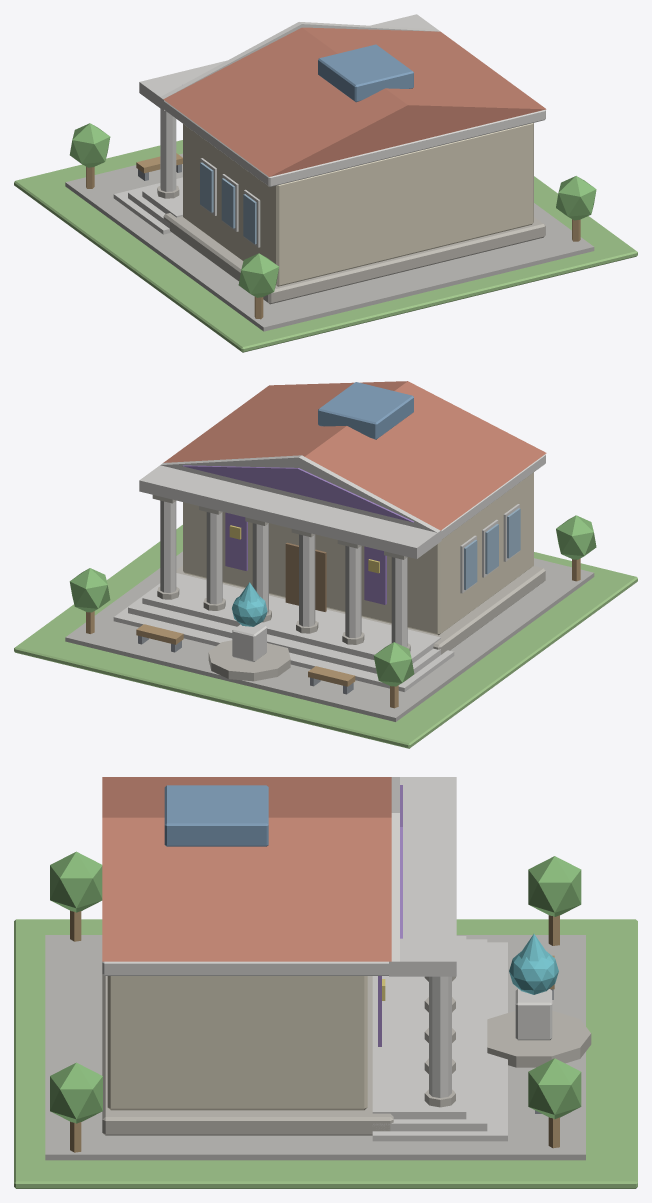
Rendered from publicos__museu.glb.
3 views of the same model, one above another, from view 1: azimuth 30°, elevation 25°; view 2: azimuth 150°, elevation 25°; view 3: azimuth 270°, elevation 25° (orthographic). The views are drawn at different scales.
Visible parts, largest first — view 1: publicos__museu; view 2: publicos__museu; view 3: publicos__museu.
Boxes of the visible parts, box(x1,y1,x2,y2) form: publicos__museu: box(14, 14, 637, 352); publicos__museu: box(14, 381, 637, 748); publicos__museu: box(14, 777, 637, 1188).
Bounding box in the file's own units: 6 × 2.69 × 6.
